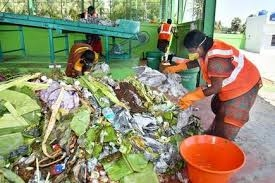kitchen_waste: (106, 146, 153, 177), (112, 80, 147, 115), (67, 106, 91, 135), (82, 74, 112, 96)
paper: (101, 106, 158, 134), (40, 80, 84, 112), (143, 64, 187, 95)
plastic: (176, 132, 251, 183)
